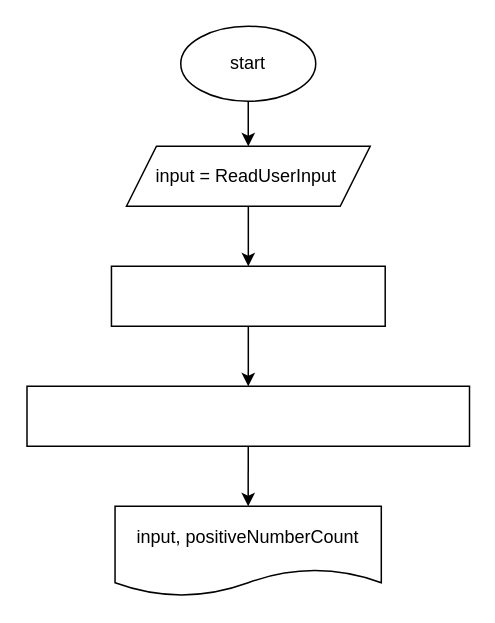
Image size: 495x623. Some labels were removed from this diagram. Each missing label, with the centre of its shape:
"formattedInput = FormatInput" belongs at pixel 247 295.
"positiveNumberCount = GetPositiveNumberCount" belongs at pixel 248 415.
